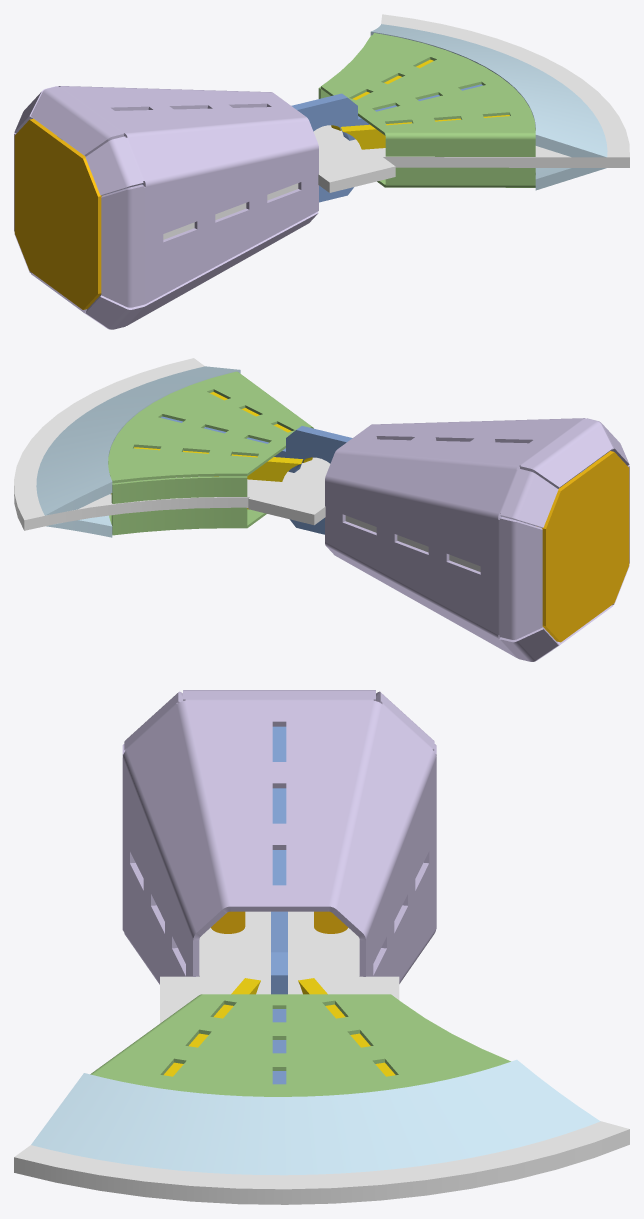
3 views of the same model, one above another, from view 1: azimuth 30°, elevation 25°; view 2: azimuth 150°, elevation 25°; view 3: azimuth 270°, elevation 25° (orthographic). The views are drawn at different scales.
Parts seen in each view (by area): view 1: Part 4, Part 6, Part 3, Part 1, Part 5, Part 9, Part 2, Part 12, Part 8; view 2: Part 4, Part 6, Part 3, Part 1, Part 5, Part 7, Part 10, Part 2, Part 14, Part 8, Part 9; view 3: Part 4, Part 5, Part 1, Part 6, Part 2, Part 3, Part 14, Part 12.
Part boxes in pixels (bbox=[...]): Part 4: bbox=[14, 86, 318, 329]; Part 6: bbox=[321, 33, 535, 156]; Part 3: bbox=[14, 118, 101, 309]; Part 1: bbox=[163, 14, 629, 239]; Part 5: bbox=[370, 24, 607, 157]; Part 9: bbox=[377, 167, 535, 187]; Part 2: bbox=[57, 84, 482, 202]; Part 12: bbox=[341, 115, 509, 149]; Part 8: bbox=[535, 168, 606, 190]; Part 4: bbox=[325, 418, 629, 661]; Part 6: bbox=[108, 371, 313, 483]; Part 3: bbox=[542, 451, 629, 642]; Part 1: bbox=[14, 358, 480, 571]; Part 5: bbox=[36, 366, 240, 515]; Part 7: bbox=[111, 476, 247, 503]; Part 10: bbox=[111, 507, 247, 533]; Part 2: bbox=[161, 416, 586, 534]; Part 14: bbox=[134, 447, 302, 481]; Part 8: bbox=[46, 493, 112, 537]; Part 9: bbox=[109, 509, 266, 535]; Part 4: bbox=[122, 690, 436, 984]; Part 5: bbox=[31, 1059, 600, 1175]; Part 1: bbox=[14, 911, 629, 1204]; Part 6: bbox=[90, 994, 510, 1096]; Part 2: bbox=[271, 726, 287, 1084]; Part 3: bbox=[211, 911, 348, 933]; Part 14: bbox=[298, 978, 395, 1076]; Part 12: bbox=[163, 978, 260, 1076].
Size of the model in its own units: 0.3326 by 0.116 by 0.2276.
